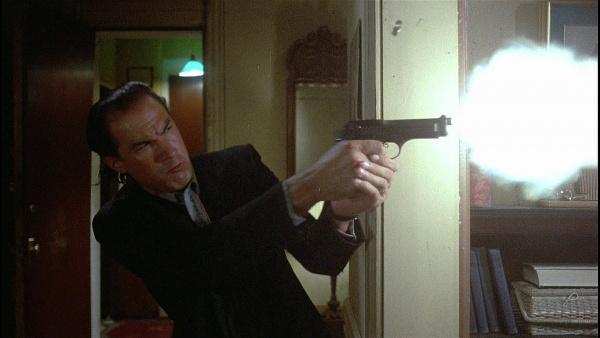Gun: (337, 116, 454, 159)
